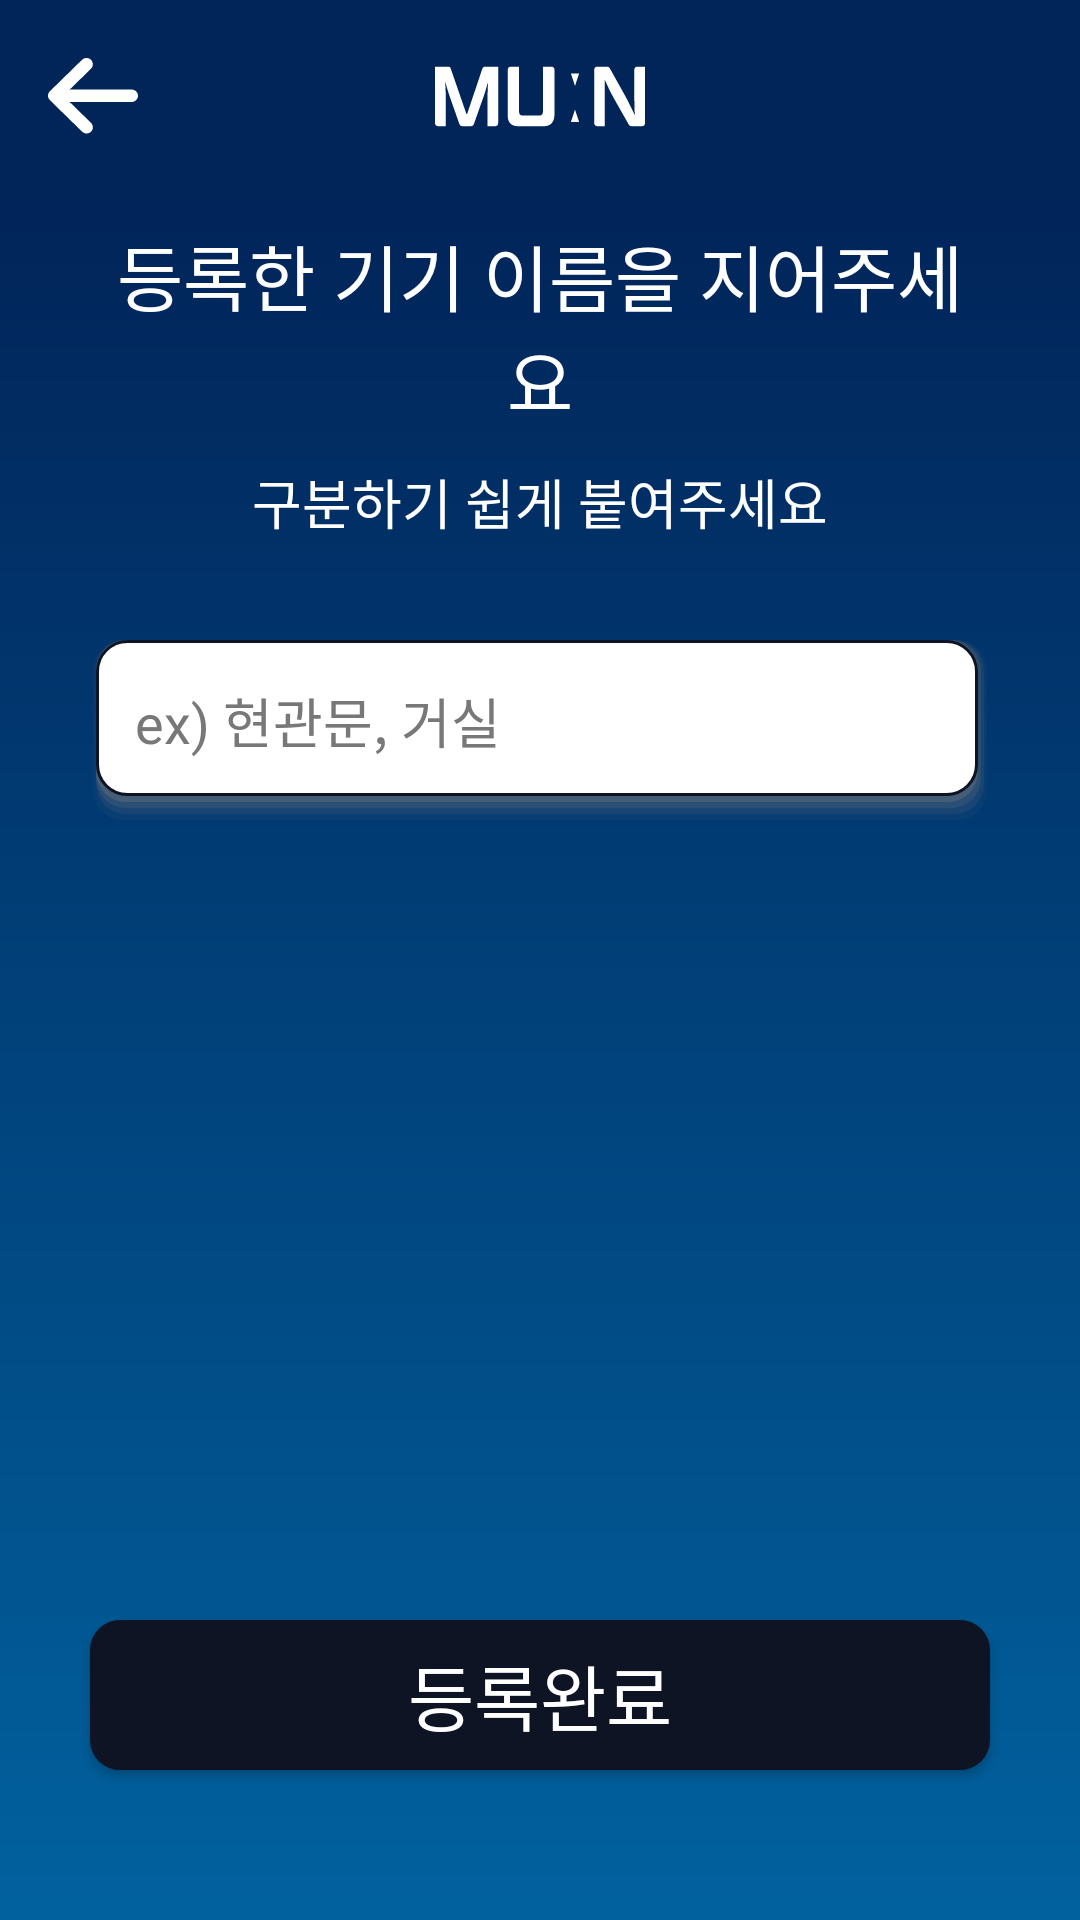

Where to tap for icons on this 1080*1920 app screen, as [x,y]:
back: [93,96]
